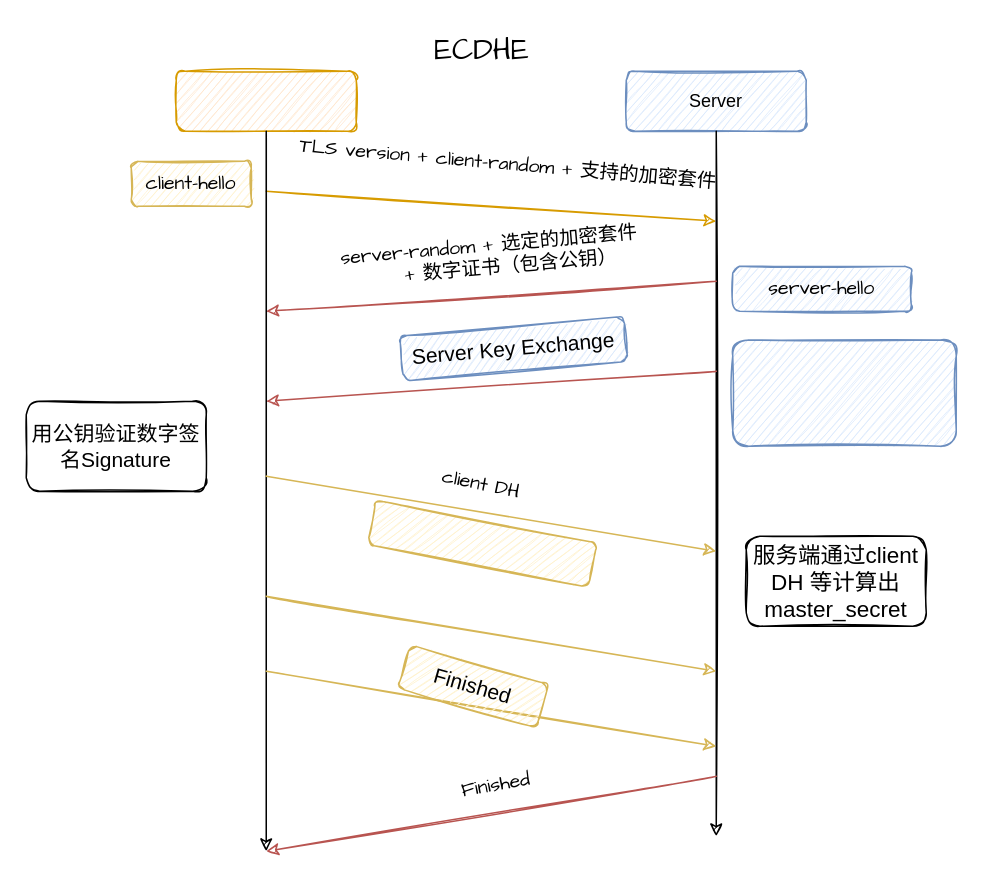
The diagram is 983 pixels wide and 890 high, and some of its shapes have lost their labels. The shapes that lost their labels are listed below. From the top down, each one's centre as x and y in pixels, then its label:
point (265, 100): Client
point (843, 392): client-random + server-random + DH parameter -> Signature
point (481, 543): Client key Exchange
